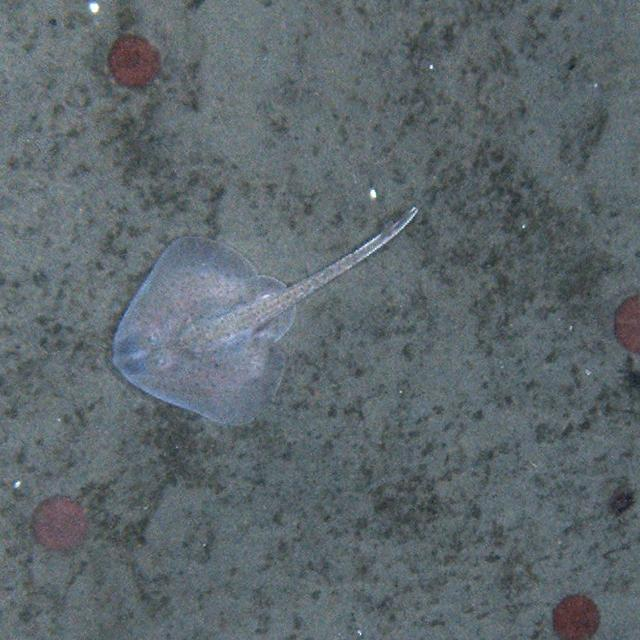skate: (98, 215, 411, 428)
